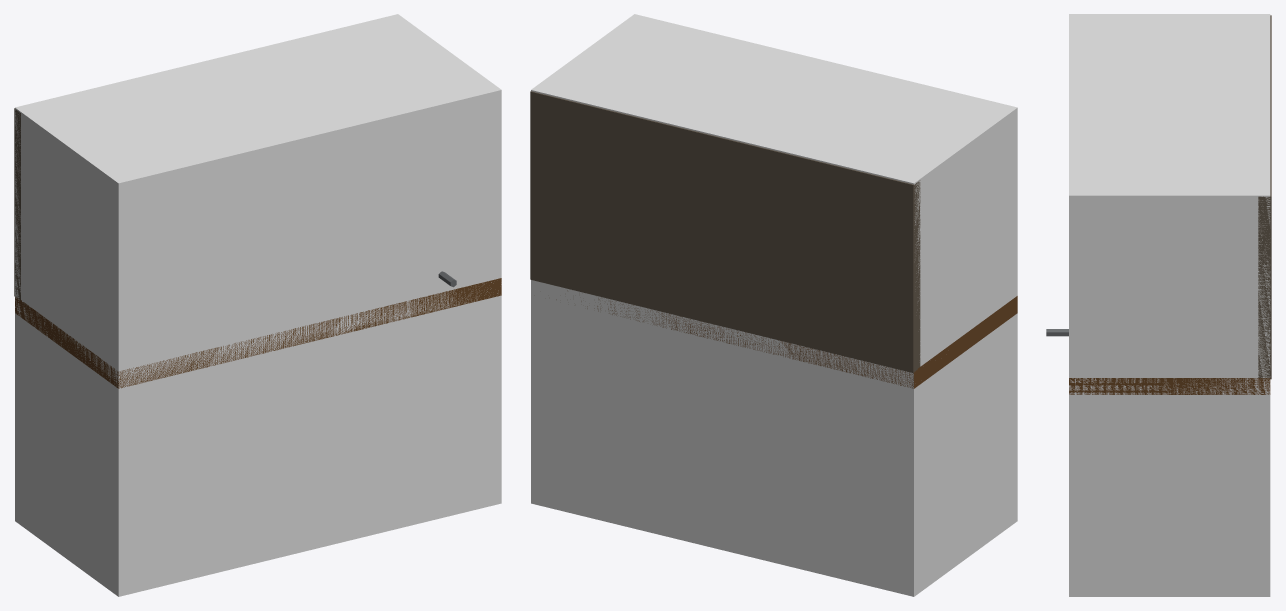
The model's file is Workbench.fbx.
3 views of the same model, side by side, from view 1: azimuth 30°, elevation 25°; view 2: azimuth 150°, elevation 25°; view 3: azimuth 270°, elevation 25° (orthographic). The views are drawn at different scales.
Parts seen in each view (by area): view 1: COL_Workbench_0, Workbench; view 2: COL_Workbench_0, Workbench; view 3: COL_Workbench_0, Workbench.
Boxes of the visible parts, box(x1,y1,x2,y2) form: COL_Workbench_0: box(15, 14, 501, 596); Workbench: box(14, 108, 501, 388); COL_Workbench_0: box(531, 14, 1017, 596); Workbench: box(530, 91, 1017, 388); COL_Workbench_0: box(1069, 14, 1270, 596); Workbench: box(1046, 15, 1271, 394).
Size of the model in its own units: 1.6 by 1.65 by 0.84.
